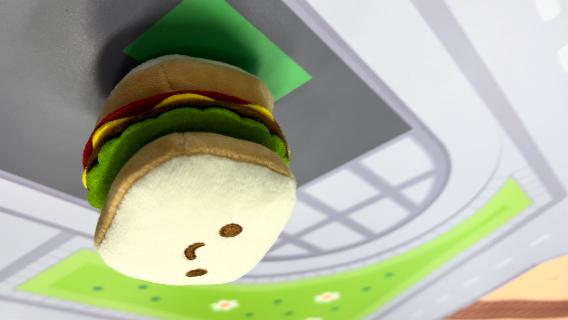sandwich: (78, 52, 300, 286)
